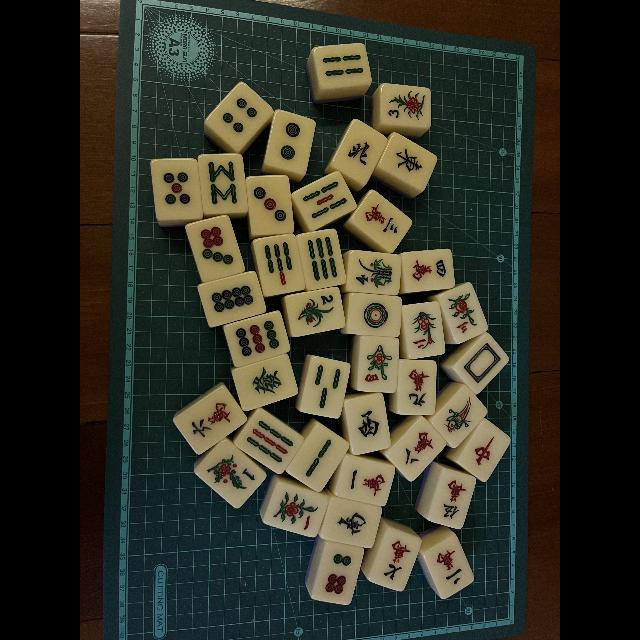b1: (442, 394, 481, 440)
b2: (297, 433, 341, 483)
b3: (304, 359, 346, 413)
b4: (315, 45, 369, 85)
b5: (296, 178, 352, 222)
b6: (302, 232, 342, 288)
b7: (260, 236, 300, 292)
b8: (200, 153, 246, 211)
b9: (242, 418, 296, 468)
c1: (340, 460, 390, 504)
c2: (431, 540, 469, 594)
c3: (355, 196, 407, 244)
c4: (404, 252, 454, 290)
c5: (434, 474, 472, 526)
c6: (184, 394, 238, 444)
c7: (377, 532, 415, 588)
c8: (394, 425, 438, 473)
c9: (398, 361, 434, 414)
d1: (348, 294, 400, 336)
d2: (270, 114, 310, 168)
d3: (250, 176, 290, 234)
d4: (213, 90, 267, 140)
d5: (152, 158, 198, 216)
d6: (318, 546, 358, 602)
d7: (192, 220, 240, 278)
d8: (206, 276, 260, 320)
d9: (230, 317, 286, 361)
dg: (238, 360, 294, 406)
dr: (464, 429, 504, 475)
dw: (458, 340, 504, 386)
f1-s: (203, 446, 260, 502)
f2-s: (290, 292, 342, 332)
f3-s: (381, 86, 431, 126)
f4-s: (350, 252, 400, 292)
s1-s: (267, 486, 321, 536)
s2-s: (405, 306, 441, 356)
s3-s: (444, 289, 484, 341)
s4-s: (358, 336, 399, 392)
we: (385, 137, 433, 185)
wn: (339, 124, 378, 178)
ws: (324, 502, 378, 544)
ww: (348, 397, 388, 451)
